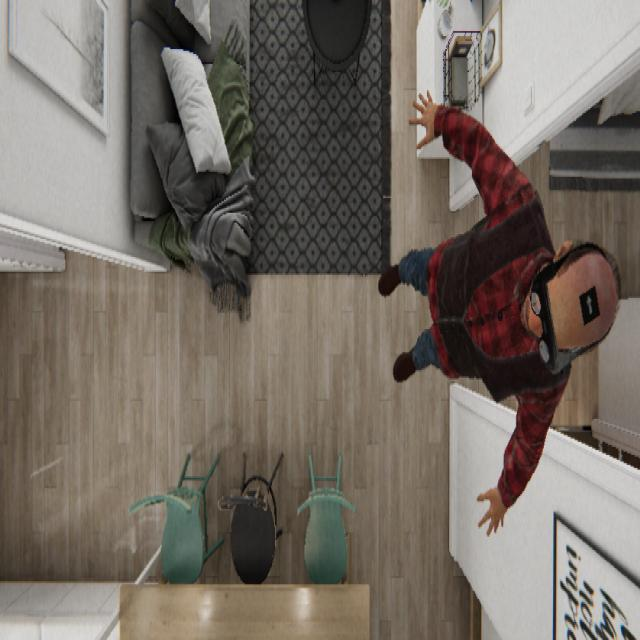Human: (377, 87, 621, 535)
UnityLogo: (577, 282, 601, 328)
